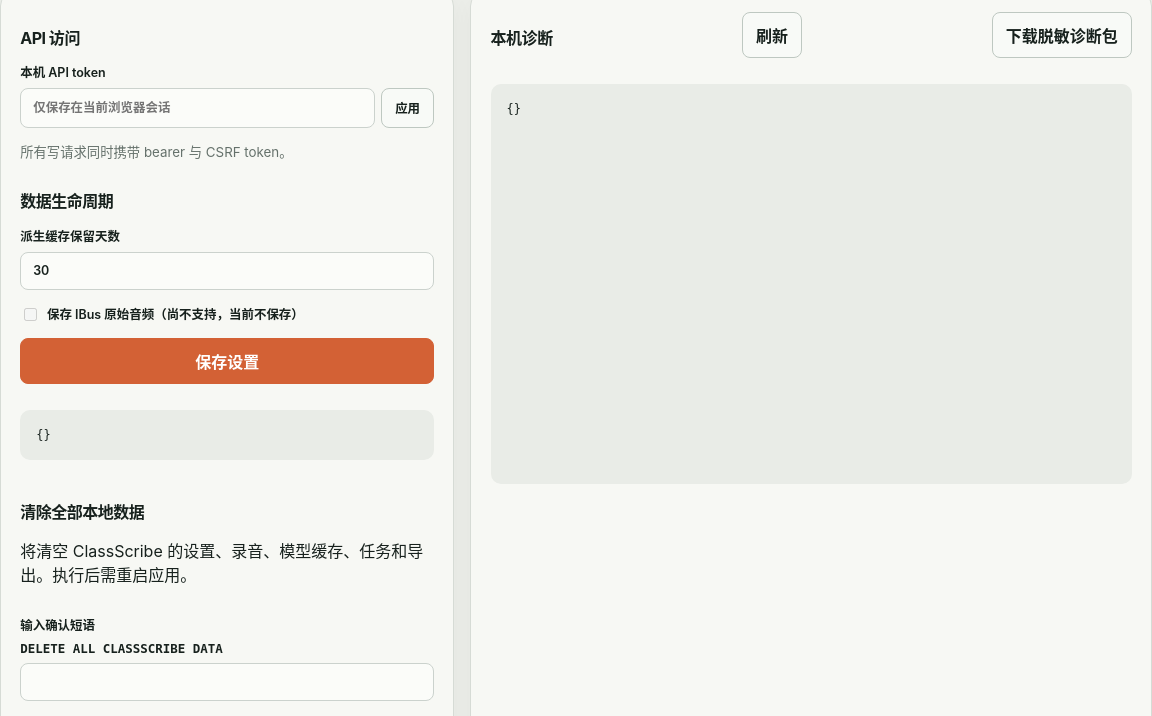
Test case: persists the displayed retention default when saving previously empty settings
(page scrolled)
Click the button "保存设置" at (227, 361), box top-left (20, 338), bottom-right (434, 384)
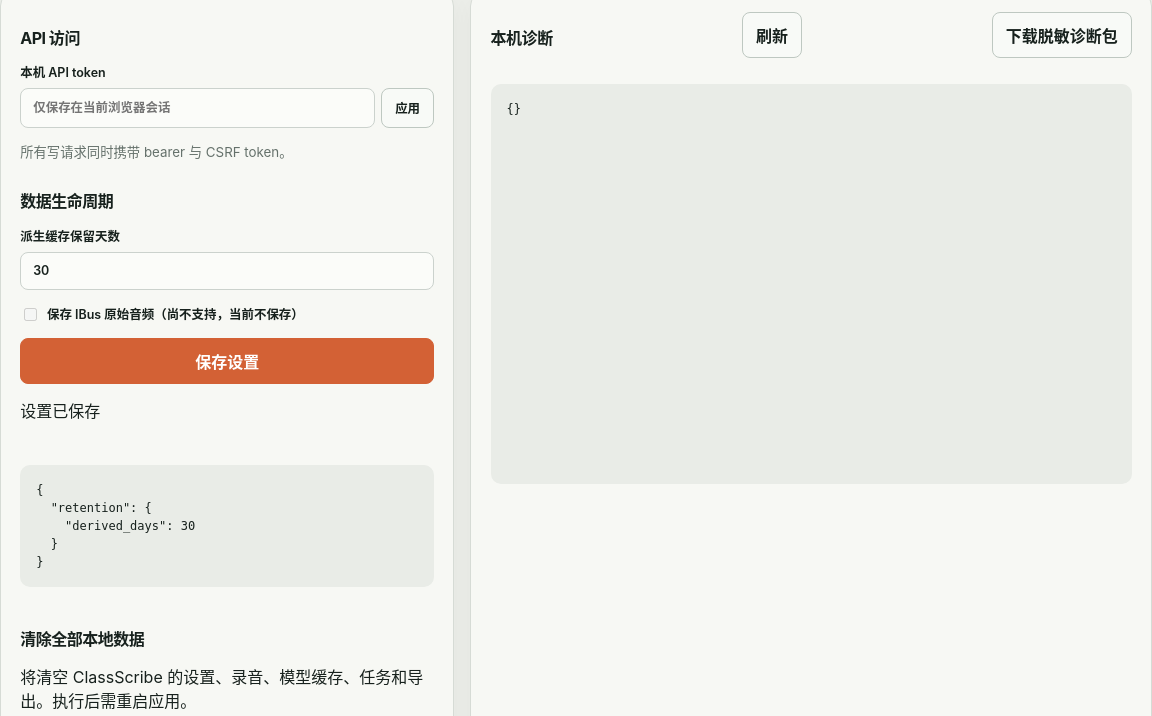
Now the text "设置已保存" is shown, box top-left (20, 401), bottom-right (100, 421)
